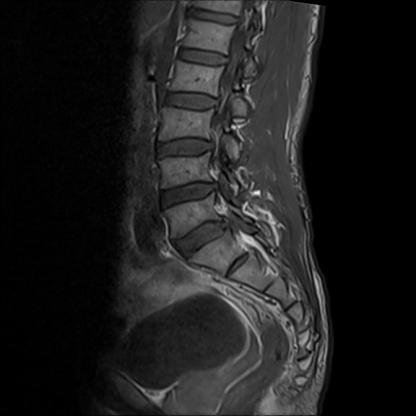Disc Bulgerotation: (167, 219, 242, 251)
